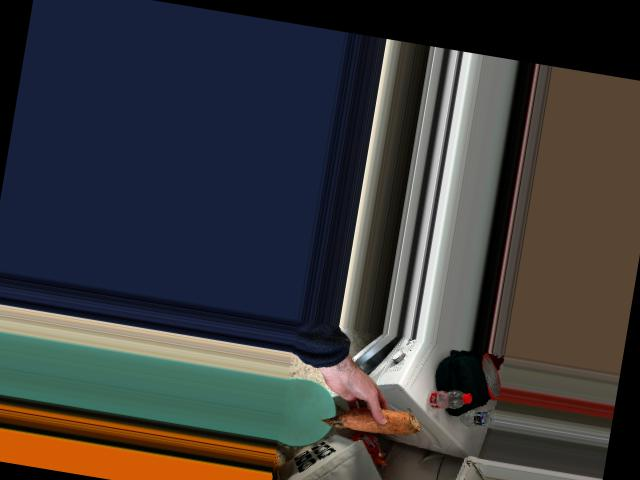sweet_potato: (323, 393, 414, 438)
